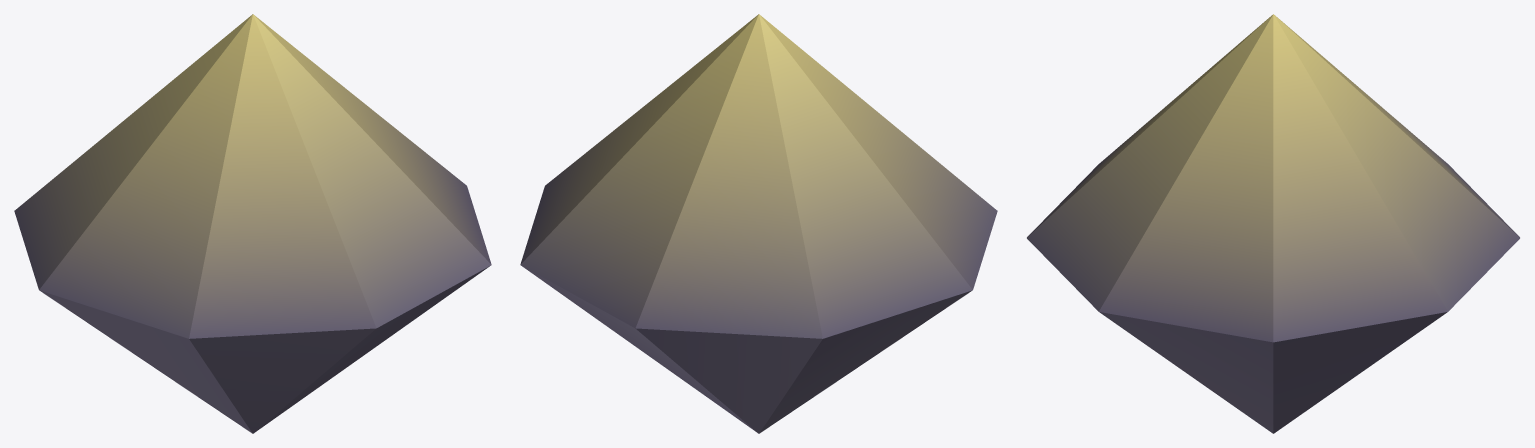
The model's file is Star_Ore.glb.
The picture shows the model from 3 angles, left to right: view 1: azimuth 30°, elevation 25°; view 2: azimuth 150°, elevation 25°; view 3: azimuth 270°, elevation 25°; orthographic projection.
Parts seen in each view (by area): view 1: StarOreItem; view 2: StarOreItem; view 3: StarOreItem.
Boxes of the visible parts, box(x1,y1,x2,y2) form: StarOreItem: box(14, 14, 491, 433); StarOreItem: box(520, 14, 997, 433); StarOreItem: box(1027, 14, 1519, 433).
Bounding box in the file's own units: 0.8 × 0.75 × 0.8.
